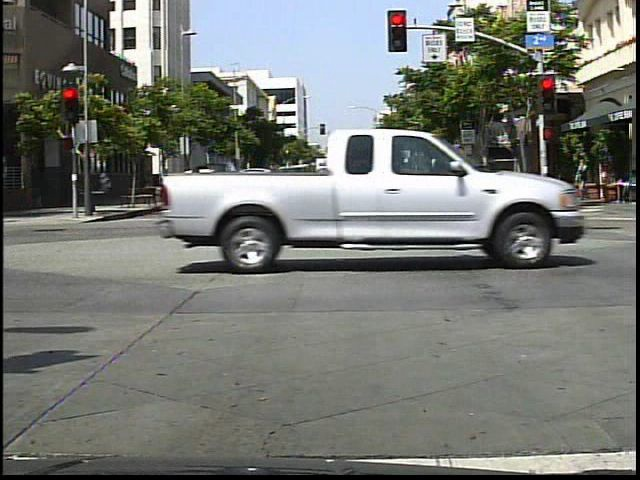person: (370, 163, 404, 239), (419, 161, 450, 225), (176, 166, 208, 225), (573, 157, 595, 206)
